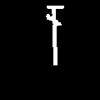double_crochet: (46, 6, 63, 64)
